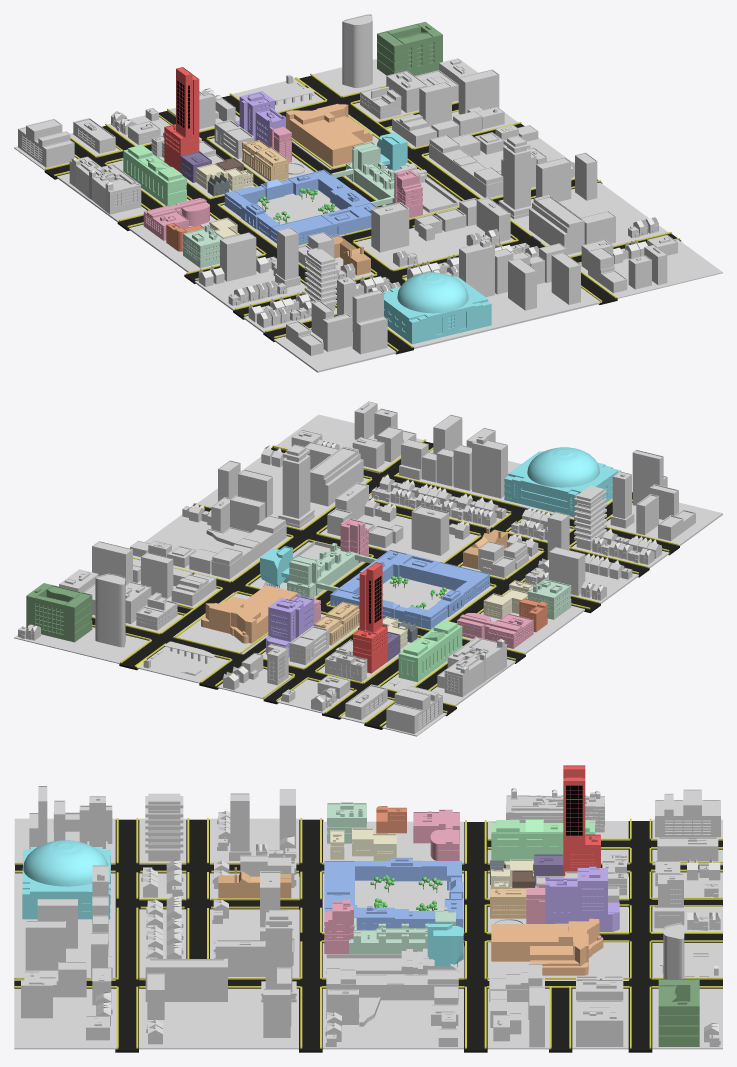
The model's file is rye_big.gltf.
3 renders of one model, top to bottom at view 1: azimuth 30°, elevation 25°; view 2: azimuth 150°, elevation 25°; view 3: azimuth 270°, elevation 25°, orthographic. The views are drawn at different scales.
Parts seen in each view (by area): view 1: Square4, RoadBlack, Square2_2, Square13, Square8, Square2, Square3, Square21, Square1, Square10, Square15, Square17 (+21 smaller); view 2: RoadBlack, Square4, Square11, Square21, Square2_2, Square13, Square8, Square3, Square17, Square14_2, Square1, Square2 (+23 smaller); view 3: RoadBlack, Square4, Square11, Square13, Square1, Square2, Square16, Square17, Square21, Square2_2, Square14_2, Square14 (+24 smaller).
Boxes of the visible parts, x1,y1,x2,y2 form: Square4: [498, 135, 667, 256]; RoadBlack: [44, 76, 681, 354]; Square2_2: [383, 239, 494, 344]; Square13: [221, 169, 377, 246]; Square8: [355, 197, 514, 271]; Square2: [387, 243, 601, 348]; Square3: [274, 277, 396, 372]; Square21: [313, 14, 442, 97]; Square1: [580, 234, 722, 298]; Square10: [194, 227, 306, 310]; Square15: [387, 69, 517, 149]; Square17: [158, 91, 314, 197]; RoadBlack: [91, 441, 679, 729]; Square4: [198, 442, 369, 530]; Square11: [130, 495, 290, 582]; Square21: [14, 573, 148, 663]; Square2_2: [472, 435, 621, 517]; Square13: [329, 549, 492, 629]; Square8: [320, 482, 478, 562]; Square3: [604, 450, 722, 545]; Square17: [262, 594, 419, 683]; Square14_2: [381, 613, 533, 690]; Square1: [274, 401, 422, 473]; Square2: [398, 414, 612, 518]; RoadBlack: [14, 819, 722, 1052]; Square4: [139, 910, 298, 1049]; Square11: [322, 967, 463, 1049]; Square13: [322, 857, 463, 934]; Square1: [14, 962, 117, 1049]; Square2: [14, 873, 115, 980]; Square16: [487, 918, 628, 980]; Square17: [487, 866, 628, 934]; Square21: [652, 922, 722, 1049]; Square2_2: [22, 840, 110, 919]; Square14_2: [413, 809, 628, 864]; Square14: [323, 802, 464, 864].
Bounding box in the file's own units: 23.2 × 5.46 × 30.12.
